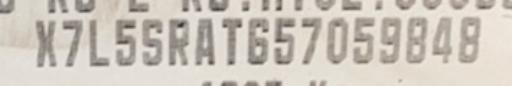letter: (244, 14, 272, 64), (84, 17, 112, 67), (112, 17, 138, 67), (350, 16, 376, 64), (298, 16, 324, 64), (140, 15, 164, 67), (166, 15, 190, 67), (193, 15, 217, 67), (219, 15, 243, 67), (34, 16, 58, 68), (60, 18, 86, 66), (404, 14, 428, 64), (458, 14, 482, 64), (325, 15, 349, 65), (272, 15, 296, 65), (430, 14, 454, 63), (378, 16, 402, 64)
